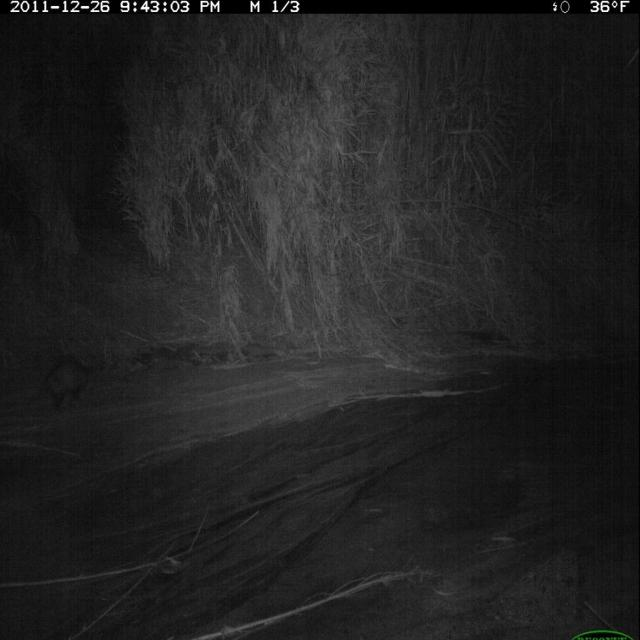opossum: (25, 351, 108, 429)
